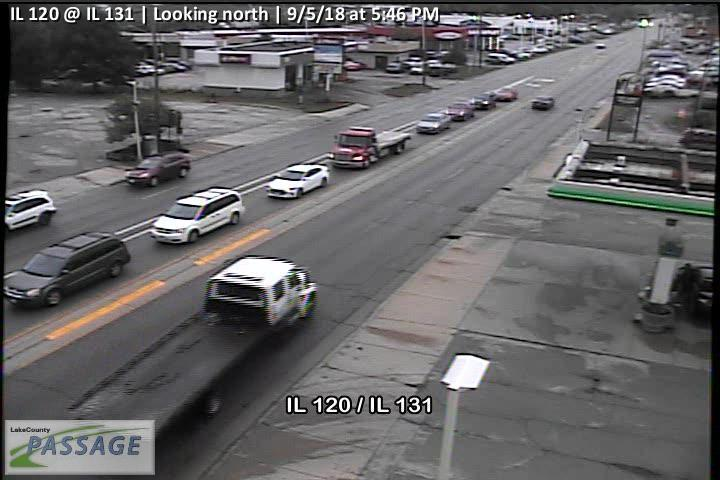SUV: (2, 231, 132, 309), (205, 255, 319, 340), (150, 186, 247, 247), (1, 189, 58, 235)
Sedan: (265, 163, 330, 201), (124, 153, 191, 188), (416, 112, 453, 136), (446, 101, 474, 121), (470, 92, 496, 109), (492, 87, 518, 101), (531, 94, 555, 109)
Truck: (326, 124, 412, 168)
